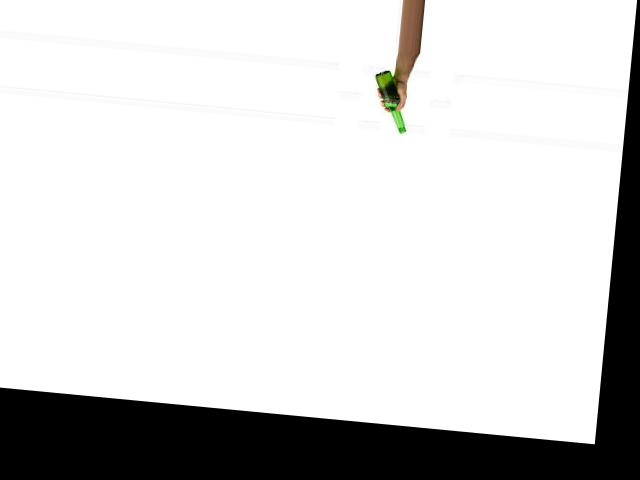beer: (370, 69, 412, 133)
